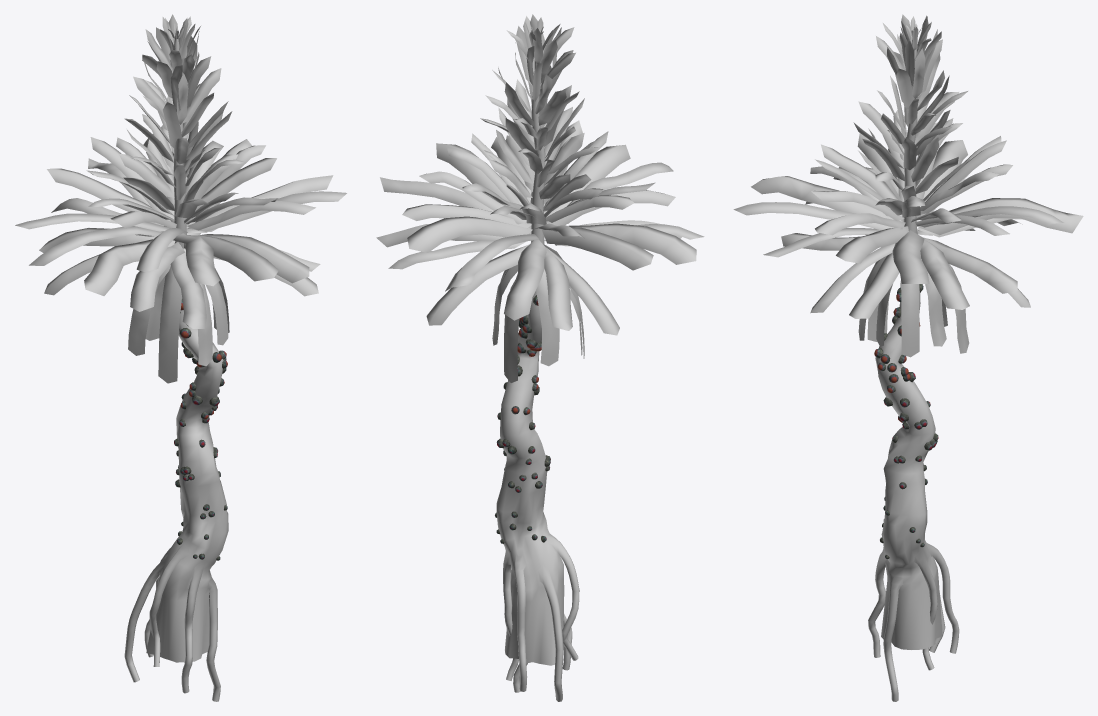
The model's file is Plant15A.fbx.
3 renders of one model, left to right at view 1: azimuth 30°, elevation 25°; view 2: azimuth 150°, elevation 25°; view 3: azimuth 270°, elevation 25°, orthographic. The views are drawn at different scales.
Parts seen in each view (by area): view 1: polySurface1988; view 2: polySurface1988; view 3: polySurface1988.
Part boxes in pixels (<box>): polySurface1988: <box>15,14,346,701</box>; polySurface1988: <box>376,14,704,701</box>; polySurface1988: <box>733,14,1083,701</box>.
Size of the model in its own units: 363 by 763 by 363.
